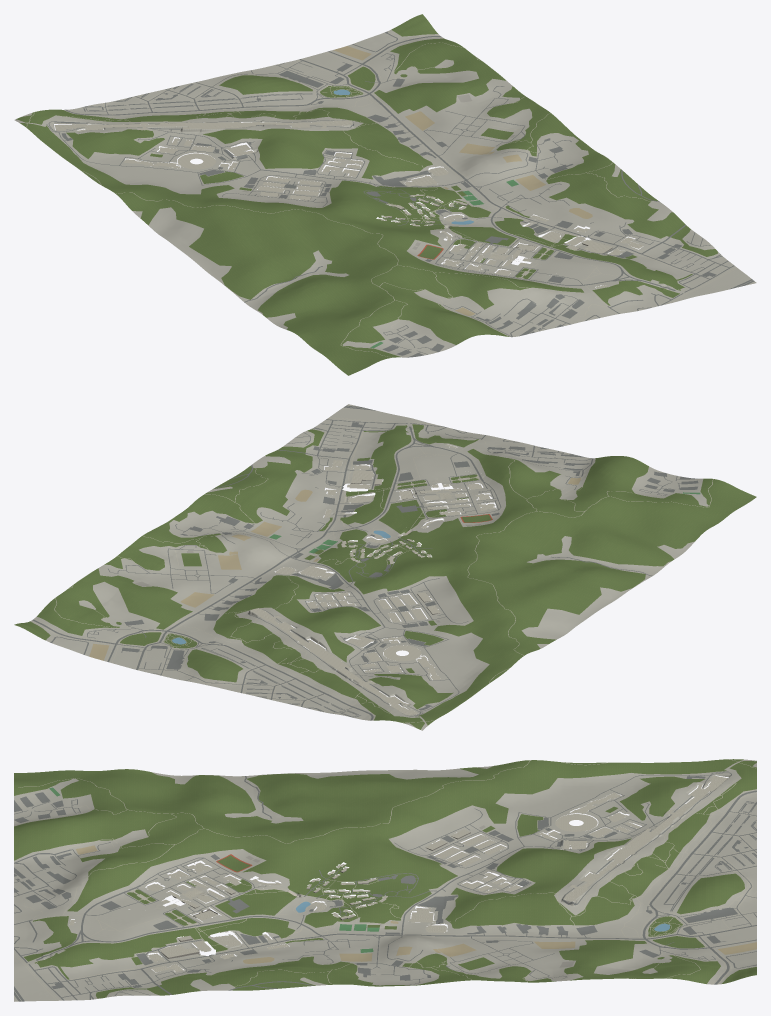
3 renders of one model, top to bottom at view 1: azimuth 30°, elevation 25°; view 2: azimuth 150°, elevation 25°; view 3: azimuth 270°, elevation 25°, orthographic. The views are drawn at different scales.
Parts seen in each view (by area): view 1: postech-wood, postech-base, postech-asphalt, postech-paving, postech-grass, postech-dirtField, postech-pitchTurf; view 2: postech-wood, postech-base, postech-asphalt, postech-paving, postech-grass, postech-dirtField, postech-pitchTurf; view 3: postech-wood, postech-base, postech-asphalt, postech-paving, postech-grass, postech-dirtField, postech-pitchTurf.
Part boxes in pixels (<box>): postech-wood: <box>16,14,717,375</box>; postech-base: <box>14,29,756,357</box>; postech-asphalt: <box>46,31,754,357</box>; postech-paving: <box>26,35,737,357</box>; postech-grass: <box>200,66,636,278</box>; postech-dirtField: <box>333,46,592,315</box>; postech-pitchTurf: <box>150,128,513,259</box>; postech-wood: <box>14,424,756,729</box>; postech-base: <box>30,404,708,730</box>; postech-asphalt: <box>32,405,698,720</box>; postech-paving: <box>32,417,713,722</box>; postech-grass: <box>116,457,478,648</box>; postech-dirtField: <box>89,477,581,660</box>; postech-pitchTurf: <box>181,514,491,672</box>; postech-wood: <box>14,759,756,998</box>; postech-base: <box>14,759,756,1001</box>; postech-asphalt: <box>14,771,756,1001</box>; postech-paving: <box>14,759,756,1000</box>; postech-grass: <box>127,814,704,965</box>; postech-dirtField: <box>76,845,756,963</box>; postech-pitchTurf: <box>217,806,617,970</box>.
Bounding box in the file's own units: 1788 × 101 × 2536.
13 materials, 8 textured.
